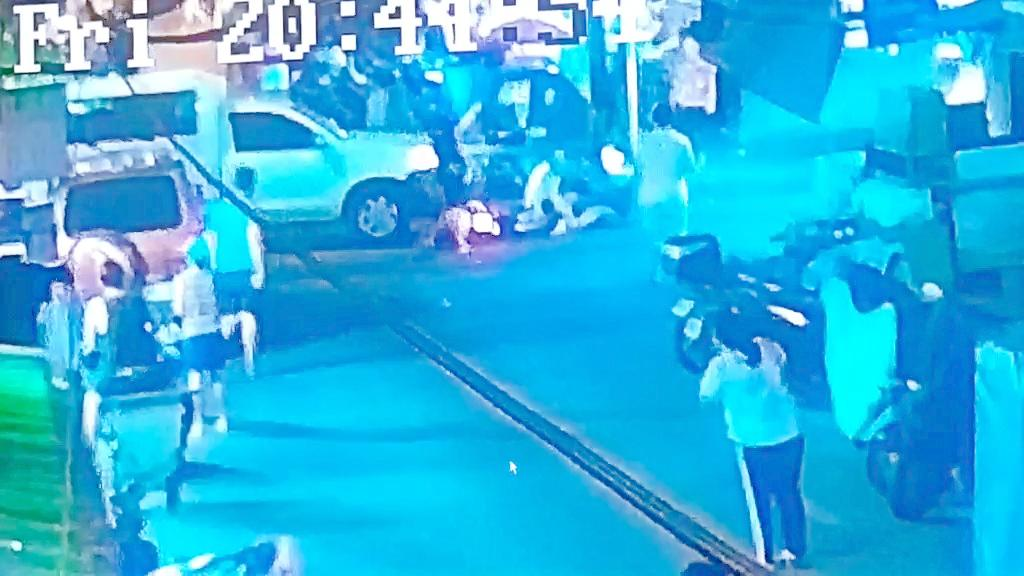Car: (0, 59, 460, 245), (38, 137, 268, 354)
Motor: (356, 78, 656, 254), (656, 200, 884, 389)
